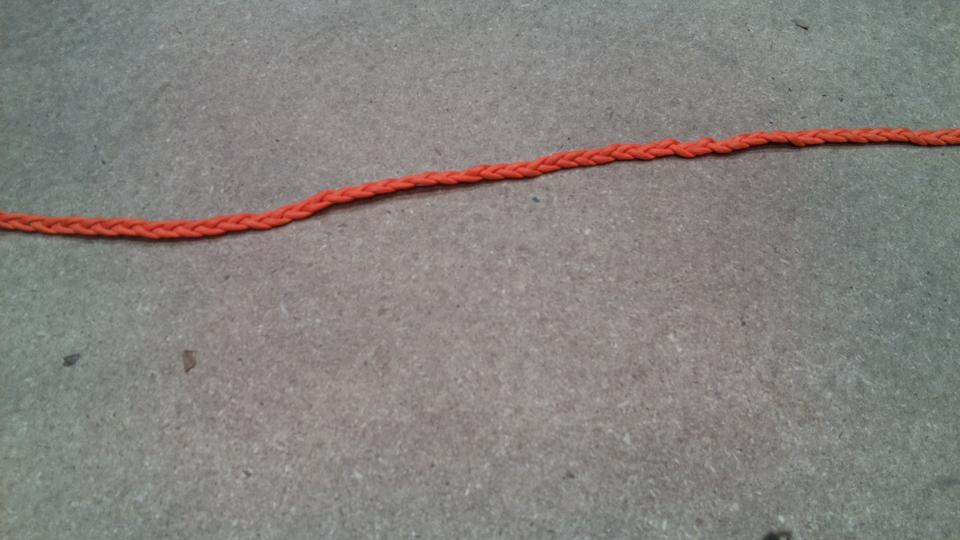rope: (1, 126, 957, 246)
